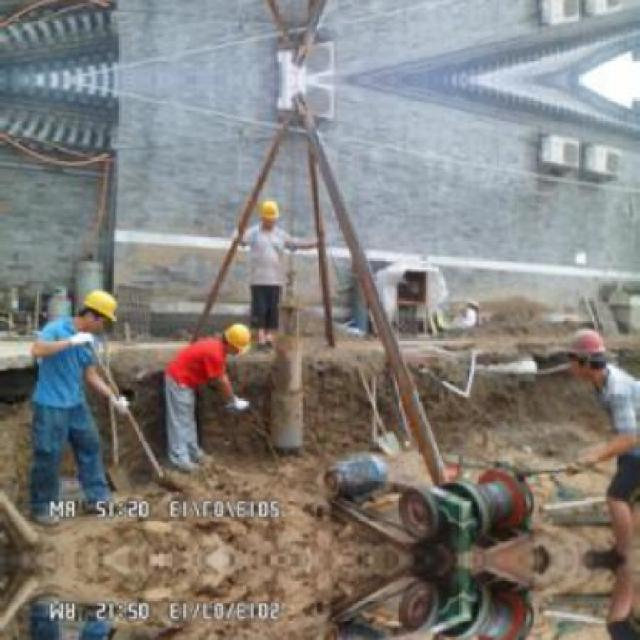helmet: (569, 326, 609, 379), (78, 283, 118, 335), (218, 318, 258, 357), (256, 194, 282, 231)
